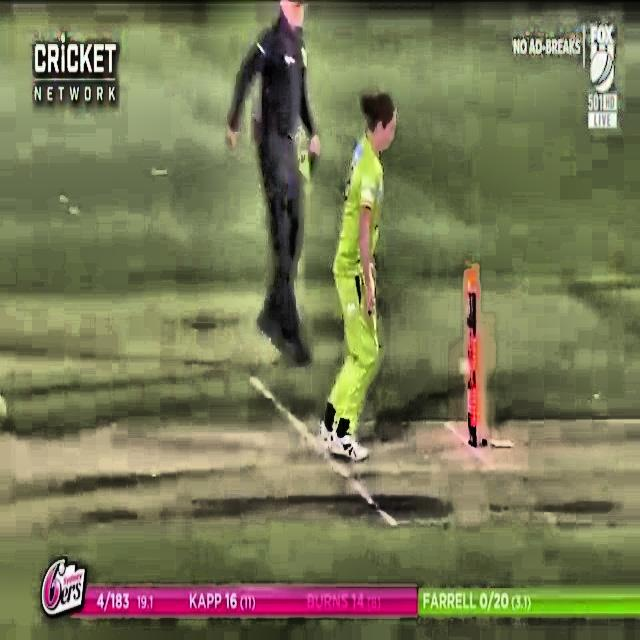Dis_Wicket: (444, 248, 495, 483)
Pitch_Line: (244, 371, 403, 528)
